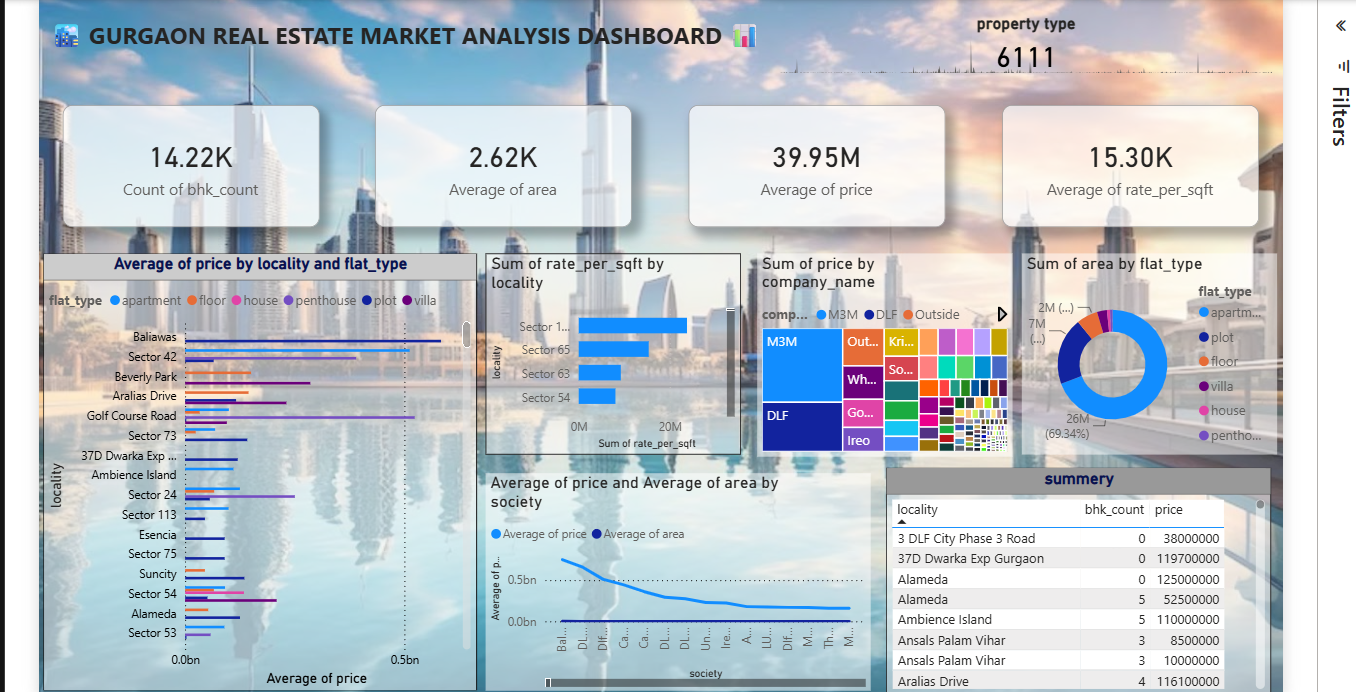

What the dashboard file says about the page in this screenshot:
{"tool":"powerbi","page":{"name":"Page 1","canvas":[1280,720],"ordinal":0},"visuals":[{"type":"card","fields":{"Values":["Avg(cleaned_data.rate_per_sqft)"]},"box":[991,108,264.2,125.4],"z":0},{"type":"card","fields":{"Values":["CountNonNull(cleaned_data.bhk_count)"]},"box":[23.9,108,264.2,125.4],"z":1000},{"type":"card","fields":{"Values":["Avg(cleaned_data.price)"]},"box":[668.7,108,264.2,125.4],"z":2000},{"type":"card","fields":{"Values":["Avg(cleaned_data.area)"]},"box":[346.3,108,264.2,125.4],"z":3000},{"type":"clusteredBarChart","fields":{"Category":["cleaned_data.locality"],"Y":["Avg(cleaned_data.price)"],"Series":["cleaned_data.flat_type"]},"box":[4.5,261.2,446.3,450.7],"z":4000},{"type":"treemap","fields":{"Group":["cleaned_data.company_name"],"Values":["Sum(cleaned_data.price)"]},"box":[738.8,261.2,262.7,209],"z":5000},{"type":"barChart","fields":{"Category":["cleaned_data.locality"],"Y":["Sum(cleaned_data.rate_per_sqft)"]},"box":[459.7,261.2,262.7,207.5],"z":6000},{"type":"donutChart","fields":{"Category":["cleaned_data.flat_type"],"Y":["Sum(cleaned_data.area)"]},"box":[1011.9,261.2,262.7,207.5],"z":7000},{"type":"lineChart","fields":{"Category":["cleaned_data.society"],"Y":["Avg(cleaned_data.price)","Avg(cleaned_data.area)"]},"box":[459.7,487.1,396.3,224.8],"z":8000},{"type":"tableEx","title":"summery","fields":{"Values":["cleaned_data.locality","cleaned_data.bhk_count","cleaned_data.price"]},"box":[871.9,481.4,396.3,233.5],"z":9000},{"type":"textbox","box":[4.5,14.9,746.3,65.7],"z":10000},{"type":"kpi","title":"property type","fields":{"TrendLine":["cleaned_data.property_type"],"Indicator":["Sum(cleaned_data.rate_per_sqft)"]},"box":[758.2,14.9,516.4,65.7],"z":11000}]}

Visuals, with their boxes on the page's 1280x720 design canvas (x1, y1, x2, y2). These are canvas units, not pixel positions in the 1356x692 screenshot, which may show the page scaled, cropped or inside an application window:
card - Avg(cleaned_data.rate_per_sqft): [x1=991, y1=108, x2=1255, y2=233]
card - CountNonNull(cleaned_data.bhk_count): [x1=24, y1=108, x2=288, y2=233]
card - Avg(cleaned_data.price): [x1=669, y1=108, x2=933, y2=233]
card - Avg(cleaned_data.area): [x1=346, y1=108, x2=610, y2=233]
clusteredBarChart - cleaned_data.locality x Avg(cleaned_data.price): [x1=4, y1=261, x2=451, y2=712]
treemap - cleaned_data.company_name x Sum(cleaned_data.price): [x1=739, y1=261, x2=1002, y2=470]
barChart - cleaned_data.locality x Sum(cleaned_data.rate_per_sqft): [x1=460, y1=261, x2=722, y2=469]
donutChart - cleaned_data.flat_type x Sum(cleaned_data.area): [x1=1012, y1=261, x2=1275, y2=469]
lineChart - cleaned_data.society x Avg(cleaned_data.price): [x1=460, y1=487, x2=856, y2=712]
"summery" tableEx: [x1=872, y1=481, x2=1268, y2=715]
textbox: [x1=4, y1=15, x2=751, y2=81]
"property type" kpi: [x1=758, y1=15, x2=1275, y2=81]
